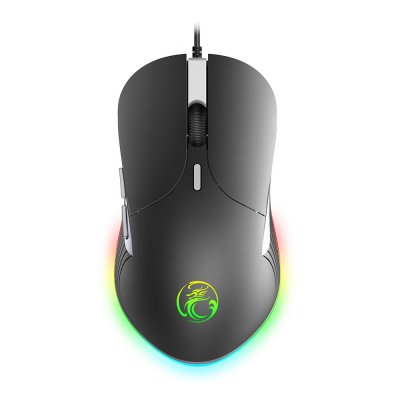Mouse: (108, 45, 288, 370)
